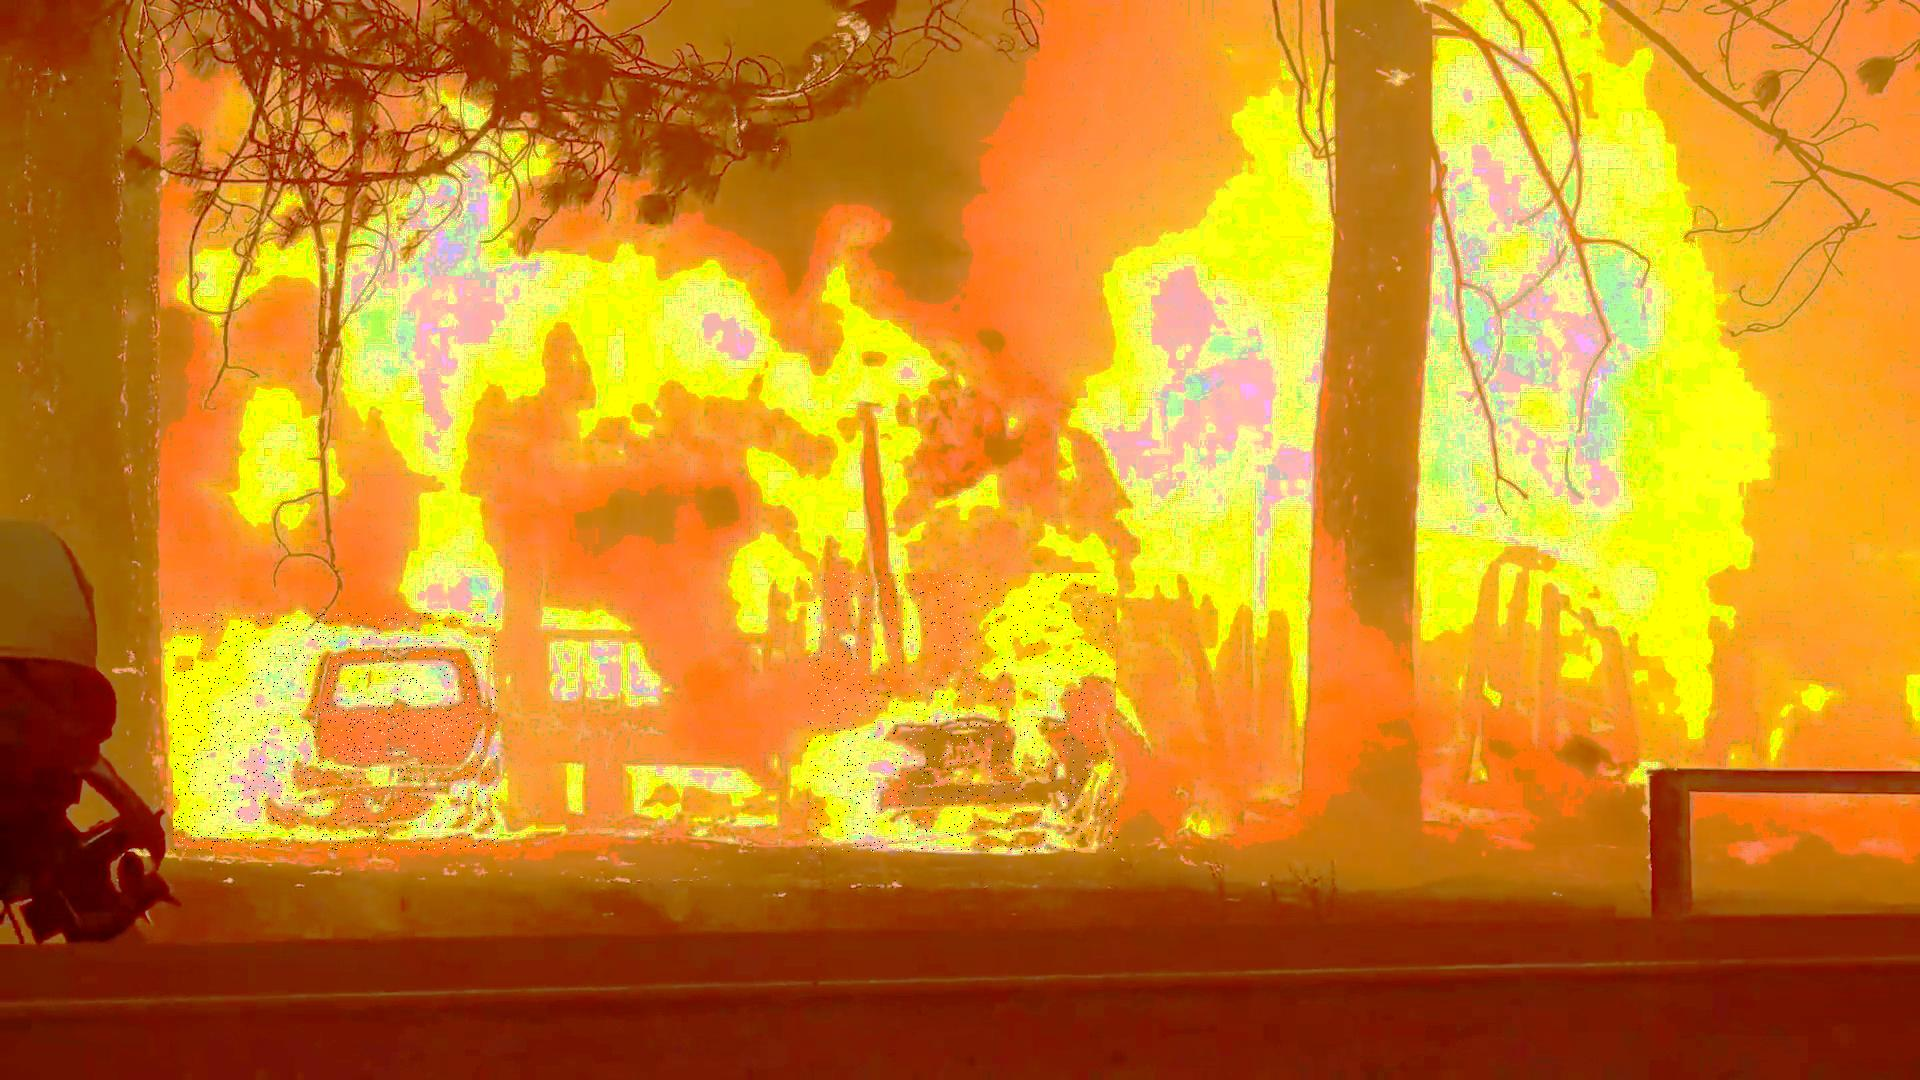fire: (807, 574, 1118, 852), (173, 613, 498, 851)
